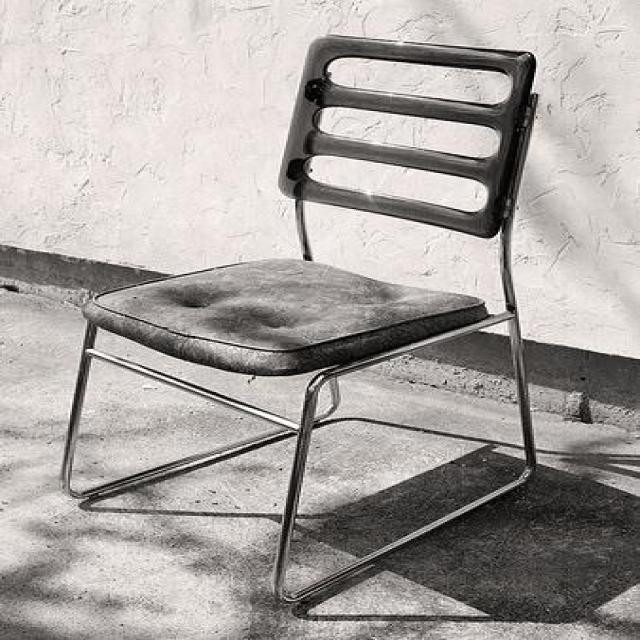chair: (58, 32, 540, 605)
